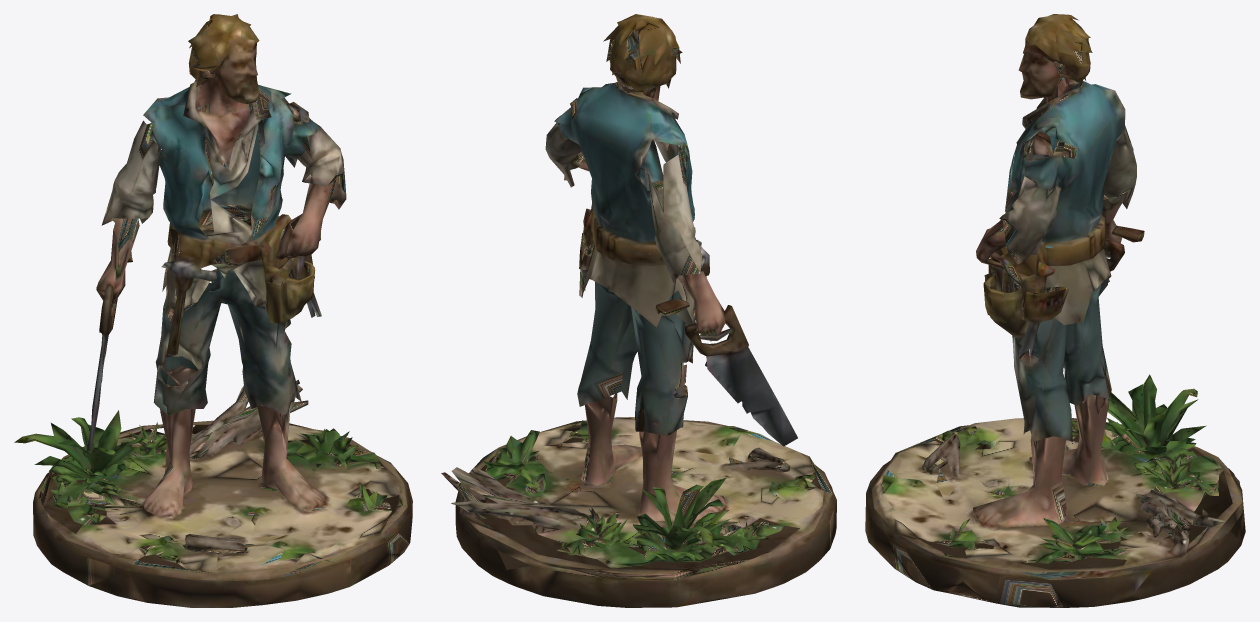
File: sw-carpenter.glb
The picture shows the model from 3 angles, left to right: view 1: azimuth 30°, elevation 25°; view 2: azimuth 150°, elevation 25°; view 3: azimuth 270°, elevation 25°; orthographic projection.
Visible parts, largest first — view 1: geometry_0; view 2: geometry_0; view 3: geometry_0.
Part boxes in pixels (x1=…): geometry_0: x1=14, y1=14, x2=412, y2=607; geometry_0: x1=441, y1=14, x2=836, y2=607; geometry_0: x1=865, y1=14, x2=1245, y2=607.
Bounding box in the file's own units: 0.5418 × 0.8012 × 0.5371.
1 material, 1 textured.
